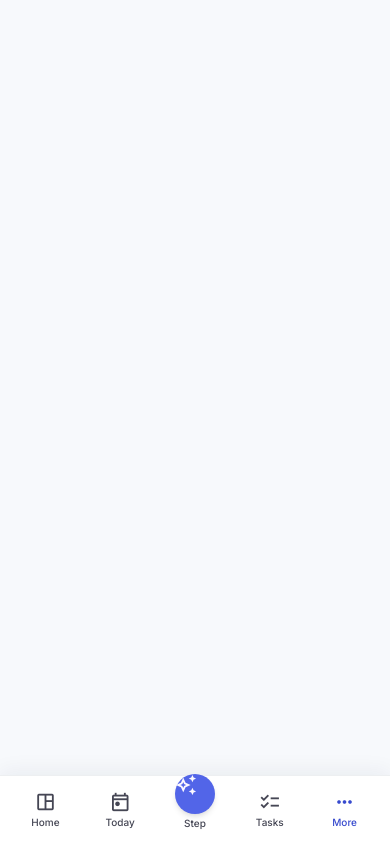
Scenario: responsive application navigation › keeps primary destinations compact and reveals the secondary destinations accessibly
The image size is (390, 844).
Expected: the link with aria-label "Step Sequencer" is shown, [175,774,215,828]
Click the button "More".
click(345, 810)  # box [307,776,382,843]
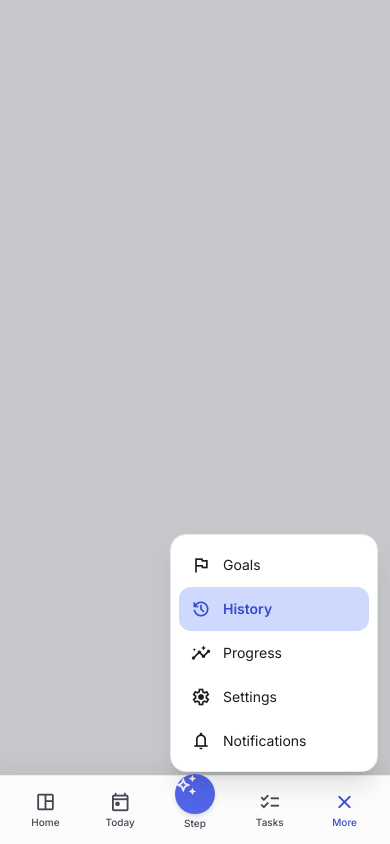
Expected: the menu named "More destinations" is shown, [170,534,378,772]
Expected: the button "More" is expanded, [307,776,382,843]
